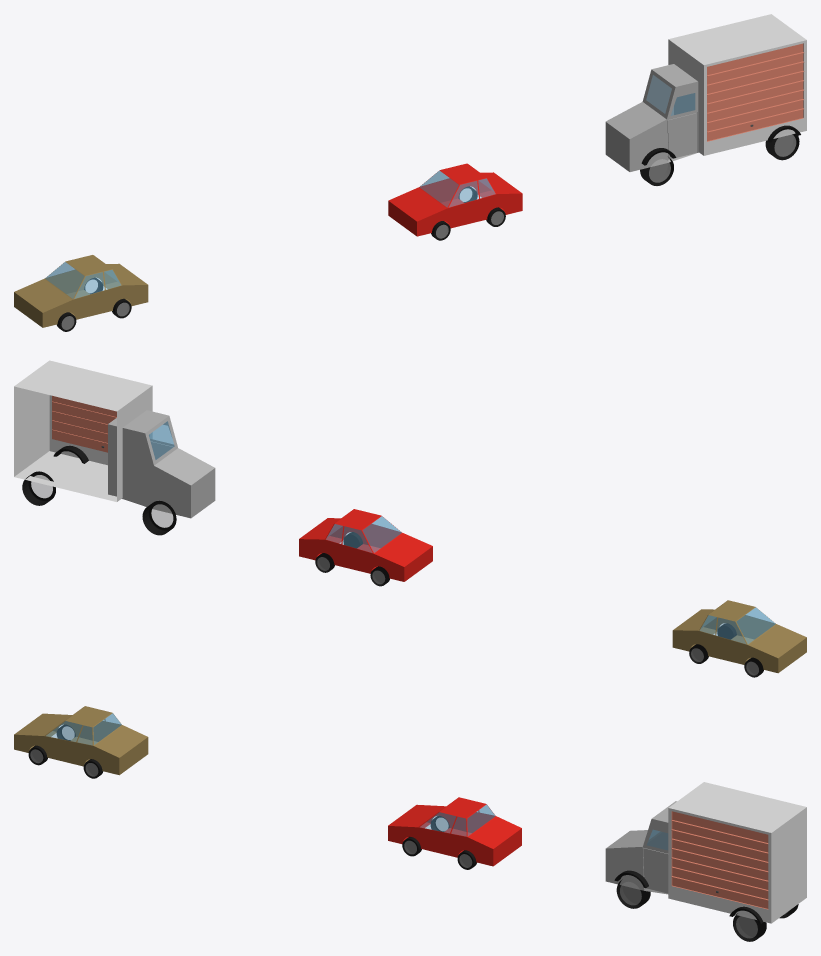
Rendered from CityCars.gltf.
3 renders of one model, top to bottom at view 1: azimuth 30°, elevation 25°; view 2: azimuth 150°, elevation 25°; view 3: azimuth 330°, elevation 25°, orthographic.
Parts seen in each view (by area): view 1: Plane.004; view 2: Plane.004; view 3: Plane.004.
Boxes of the visible parts, <box> form: Plane.004: <box>14,14,806,331</box>; Plane.004: <box>14,360,806,677</box>; Plane.004: <box>14,706,806,941</box>.
Bounding box in the file's own units: 40.64 × 5.77 × 3.61.
